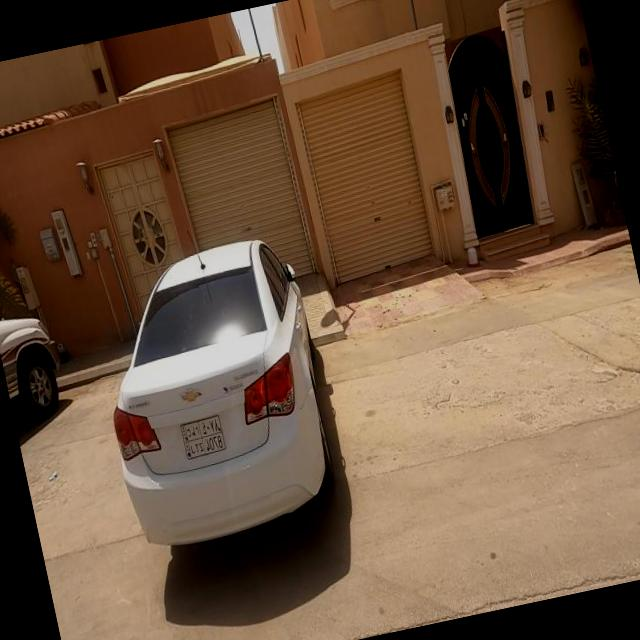debris: (436, 208, 506, 308)
